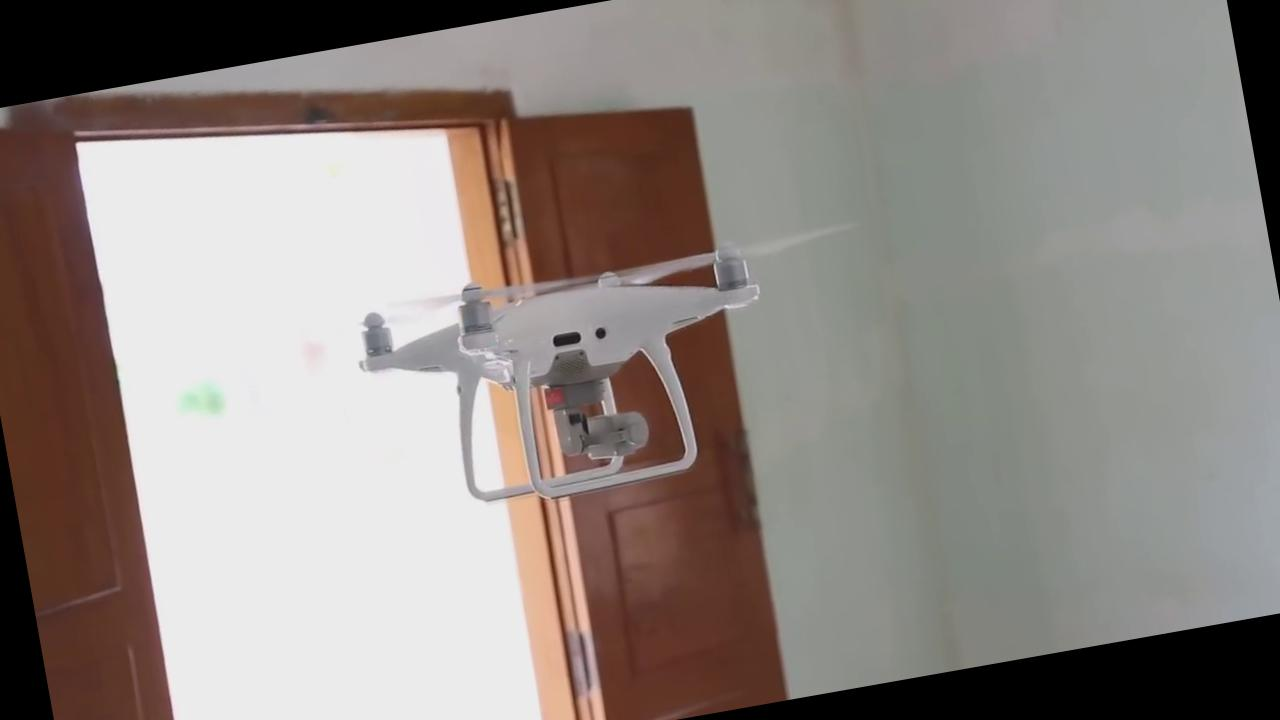drone: (308, 200, 900, 557)
